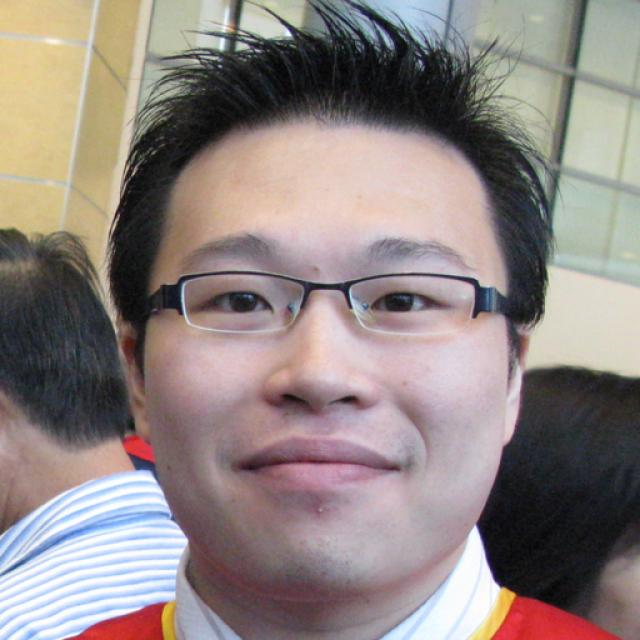Acne: (310, 499, 330, 523), (305, 261, 328, 277)
